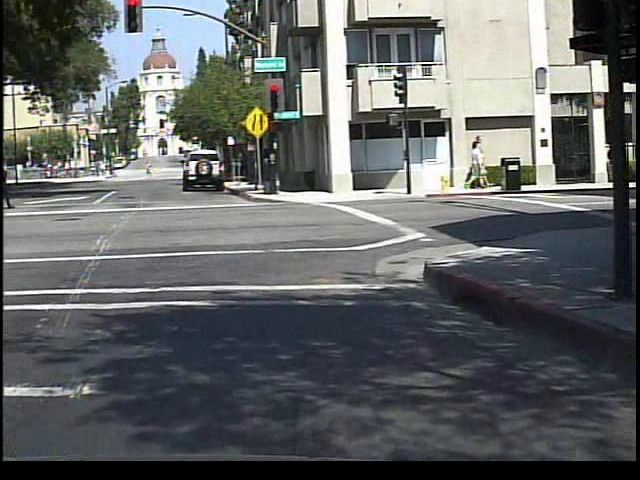person: (3, 169, 30, 228), (4, 158, 23, 213), (146, 161, 155, 178)
